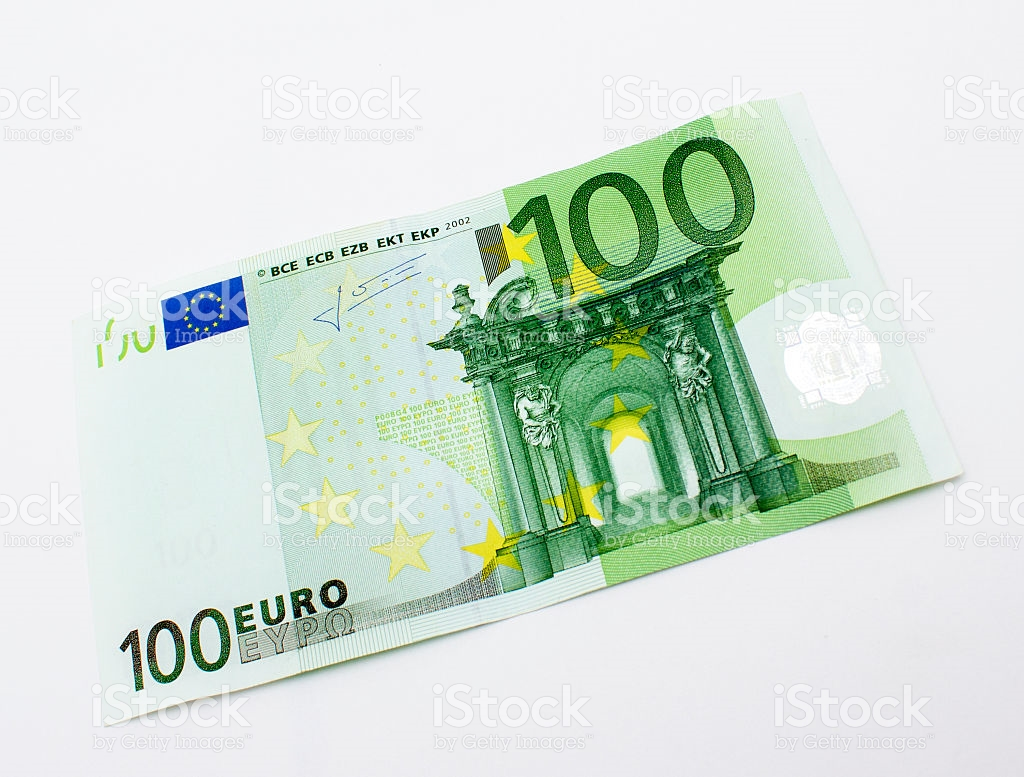billete: (67, 86, 968, 729)
